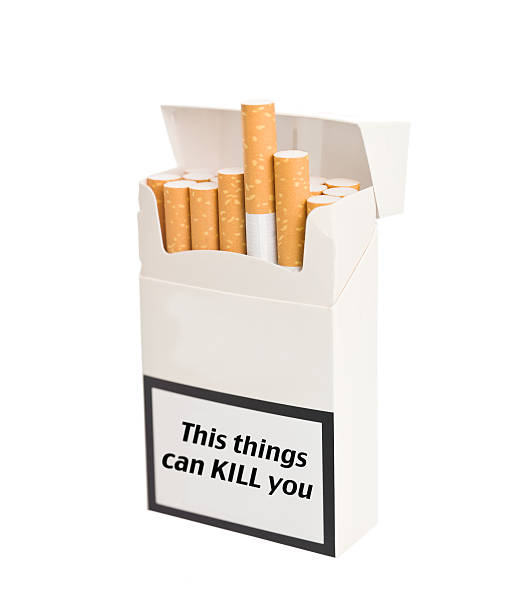cigarette: (139, 101, 412, 561), (241, 101, 279, 264), (272, 148, 309, 267), (146, 172, 181, 241), (218, 167, 245, 255), (189, 182, 221, 249), (162, 179, 189, 252)
